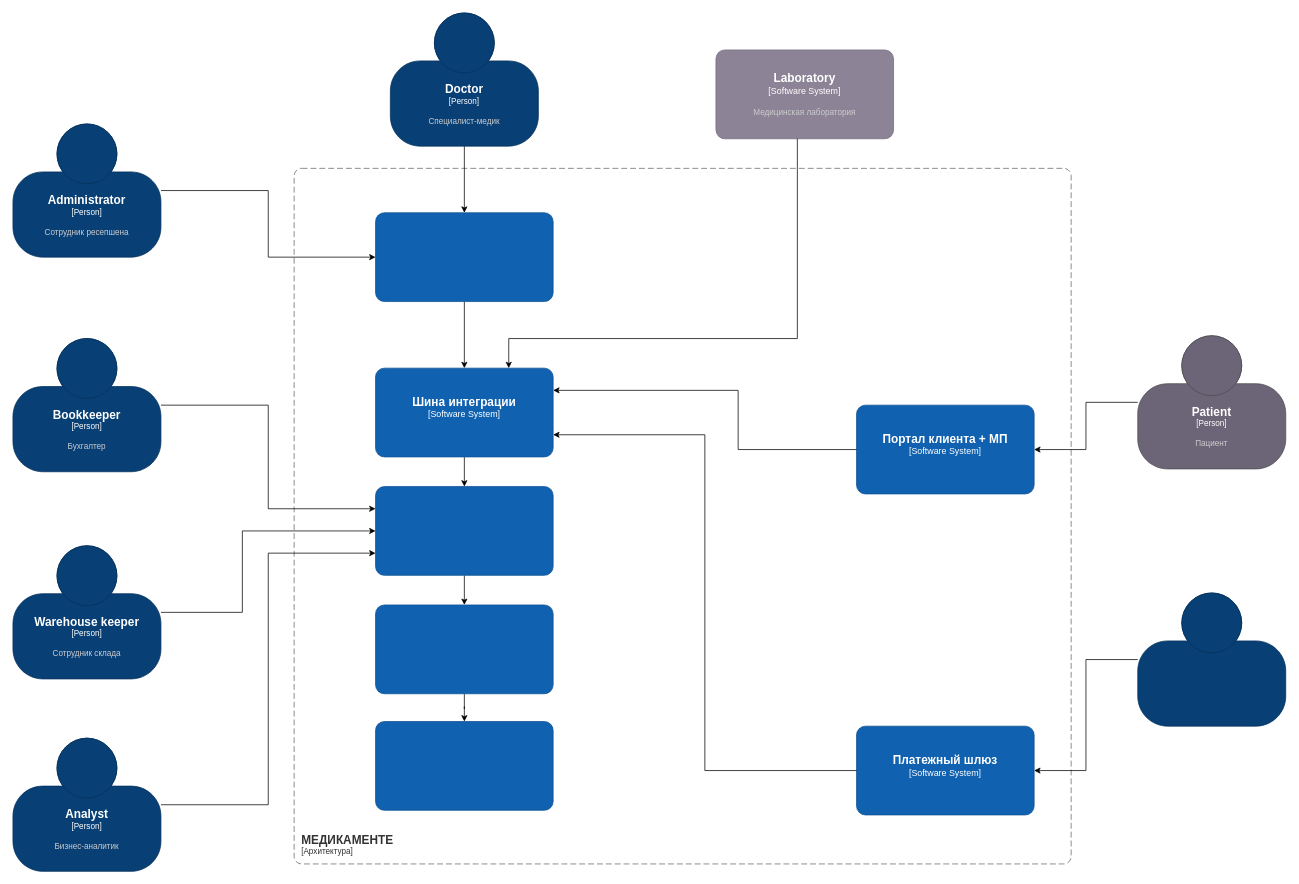
This 1299x884 diagram has some shape labels left out. Each missing label, with the centre of its shape:
Cassier [Person] Кассир: point 1211,659
Платформа данных [Software System]: point 464,530
Портал сотрудников [Software System]: point 464,257
Слой айдита [Software System]: point 464,765
Слой безопасности [Software System]: point 464,649
